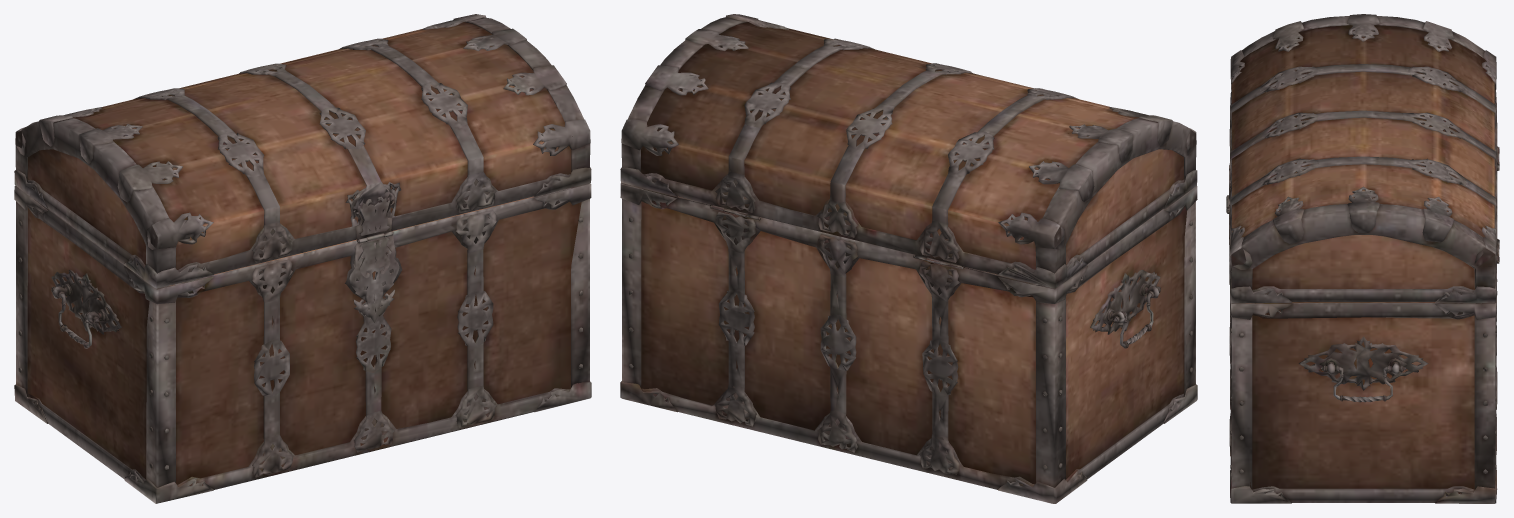
File: treasure_chest.glb
3 renders of one model, left to right at view 1: azimuth 30°, elevation 25°; view 2: azimuth 150°, elevation 25°; view 3: azimuth 270°, elevation 25°, orthographic. The views are drawn at different scales.
Visible parts, largest first — view 1: treasure_chest_bottom, treasure_chest_lid, treasure_chest_lock; view 2: treasure_chest_bottom, treasure_chest_lid; view 3: treasure_chest_lid, treasure_chest_bottom, treasure_chest_handle_right.
Boxes of the visible parts, x1,y1,x2,y2 form: treasure_chest_bottom: [14, 183, 591, 503]; treasure_chest_lid: [14, 14, 591, 288]; treasure_chest_lock: [349, 233, 399, 322]; treasure_chest_bottom: [620, 183, 1197, 503]; treasure_chest_lid: [620, 14, 1197, 288]; treasure_chest_lid: [1226, 14, 1499, 303]; treasure_chest_bottom: [1229, 131, 1499, 503]; treasure_chest_handle_right: [1320, 365, 1406, 402].
Bounding box in the file's own units: 0.959 × 0.618 × 0.5223.
1 material, 1 textured.
